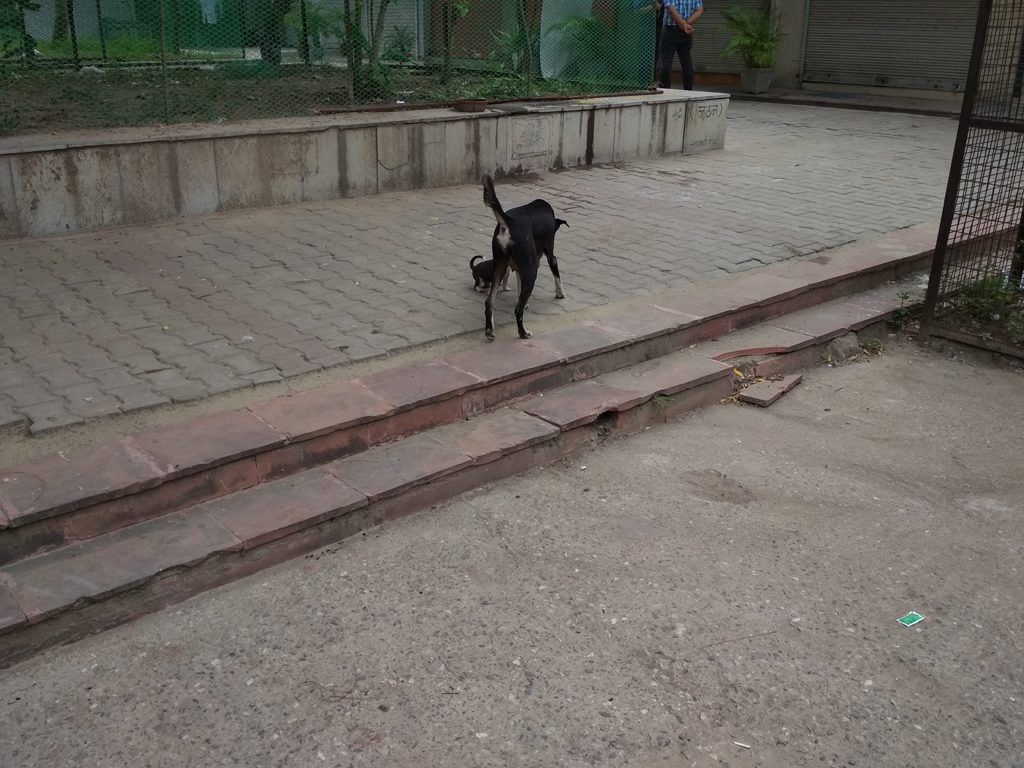dog: (482, 175, 570, 339), (471, 255, 509, 292)
